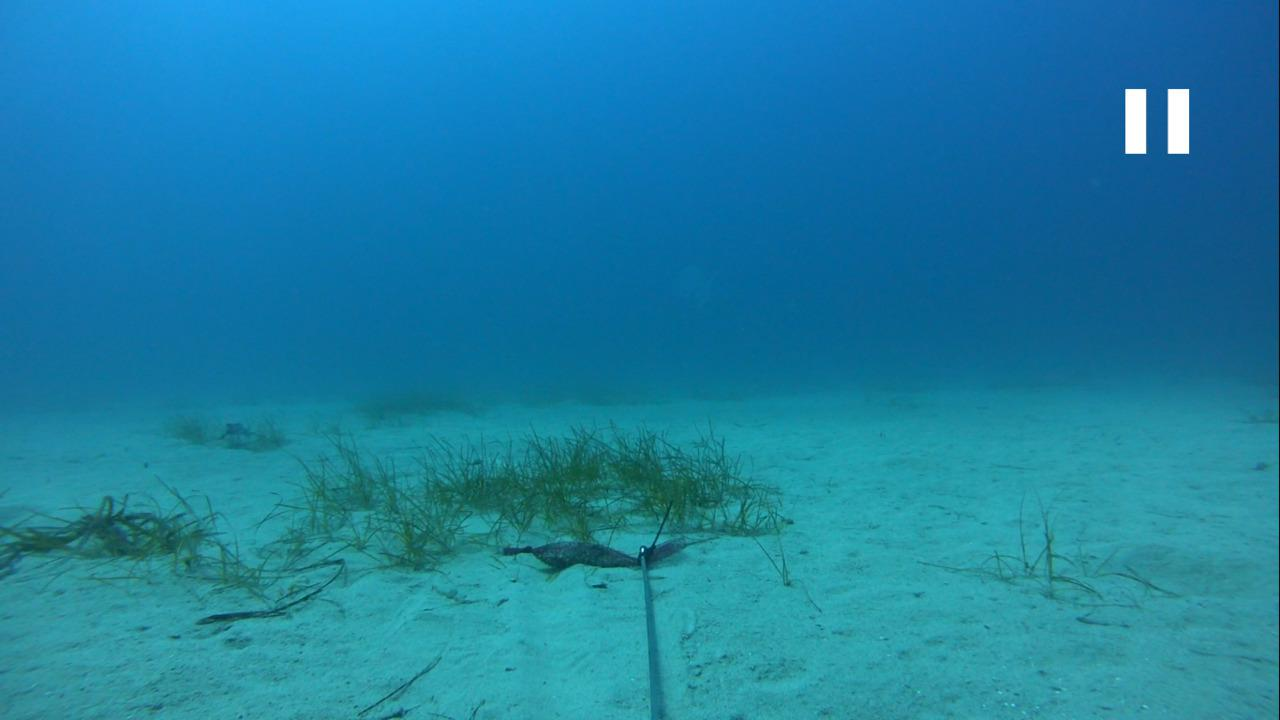dactylopterus: (211, 416, 270, 446)
